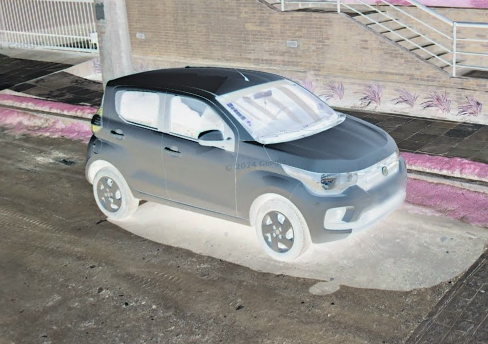car: (81, 64, 409, 264)
